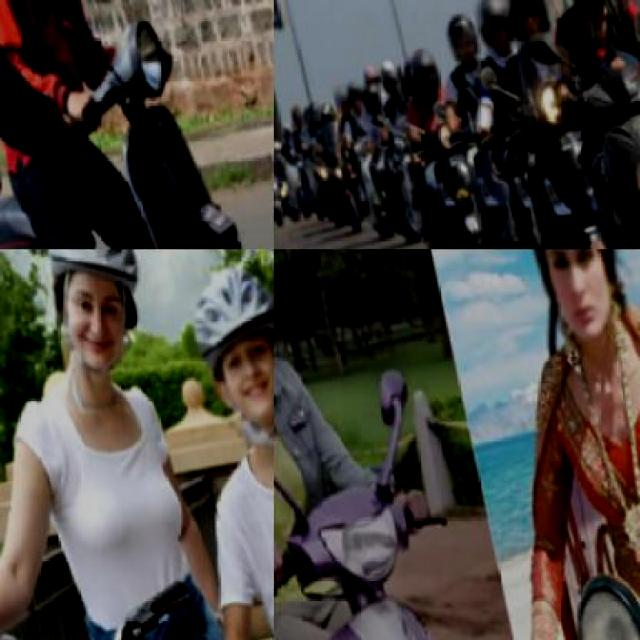With Helmet: (26, 249, 163, 409), (172, 265, 272, 463), (502, 249, 638, 362), (493, 0, 555, 55), (469, 0, 514, 65), (438, 14, 478, 72), (405, 48, 440, 101), (357, 78, 383, 120), (340, 78, 365, 116), (328, 84, 349, 118)
